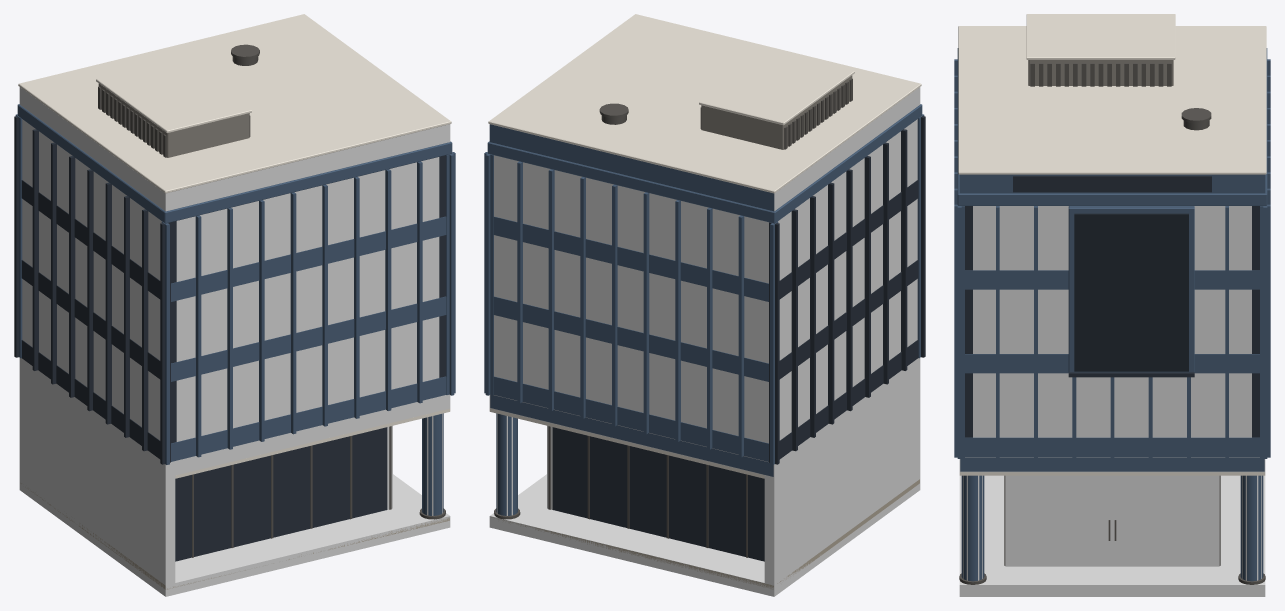
3 views of the same model, side by side, from view 1: azimuth 30°, elevation 25°; view 2: azimuth 150°, elevation 25°; view 3: azimuth 270°, elevation 25° (orthographic). The views are drawn at different scales.
Visible parts, largest first — view 1: T02_body, col_upper, col_lobby_back, col_floor; view 2: T02_body, col_upper, col_lobby_back, col_floor; view 3: T02_body, col_upper, col_lobby, col_floor, col_pilotis_+4, col_pilotis_-4.
Part boxes in pixels (box(x1,y1,x2,y2)): T02_body: box(14, 14, 455, 589); col_upper: box(19, 87, 450, 477); col_lobby_back: box(19, 371, 175, 585); col_floor: box(19, 474, 450, 596); T02_body: box(484, 14, 925, 589); col_upper: box(489, 87, 920, 477); col_lobby_back: box(764, 371, 920, 585); col_floor: box(489, 474, 920, 596); T02_body: box(954, 14, 1270, 584); col_upper: box(959, 206, 1265, 472); col_lobby: box(1005, 475, 1219, 566); col_floor: box(959, 475, 1265, 596); col_pilotis_+4: box(1242, 475, 1261, 580); col_pilotis_-4: box(963, 475, 982, 580).
Size of the model in its own units: 9.4 by 13.13 by 8.28.
